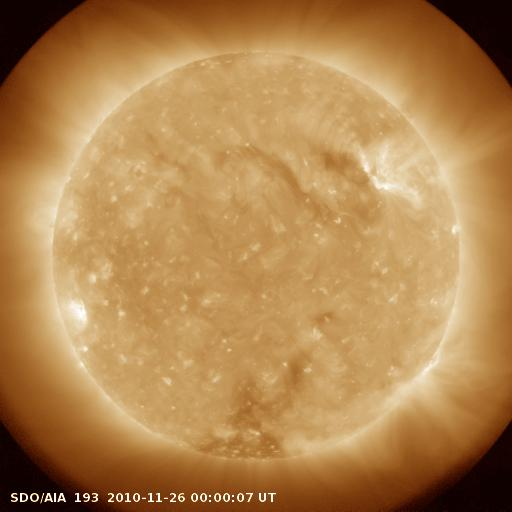coronal_hole: (196, 381, 285, 466), (318, 141, 362, 182)
